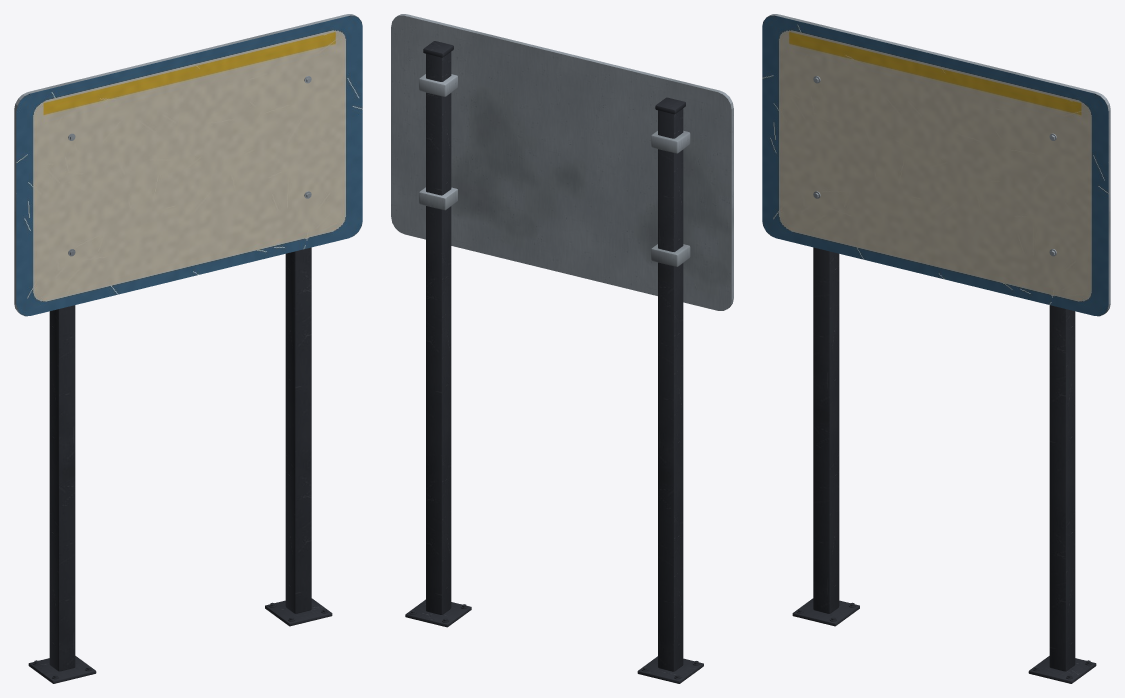
The model's file is colony_sign.glb.
The picture shows the model from 3 angles, left to right: view 1: azimuth 30°, elevation 25°; view 2: azimuth 150°, elevation 25°; view 3: azimuth 330°, elevation 25°; orthographic projection.
Visible parts, largest first — view 1: ColonySignMesh; view 2: ColonySignMesh; view 3: ColonySignMesh.
Part boxes in pixels (x1,y1,x2,y2): ColonySignMesh: (14, 14, 362, 683); ColonySignMesh: (391, 14, 733, 683); ColonySignMesh: (762, 14, 1110, 683).
Size of the model in its own units: 0.88 by 1.44 by 0.11.
3 materials, 3 textured.
